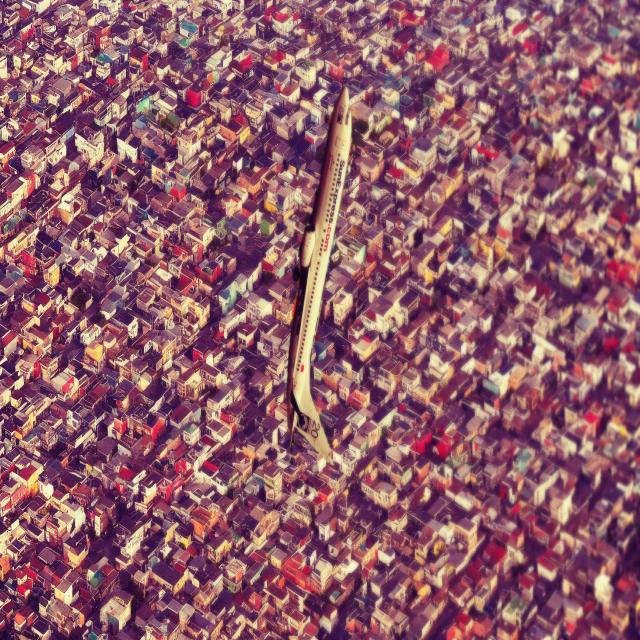airplane: (284, 83, 358, 465)
